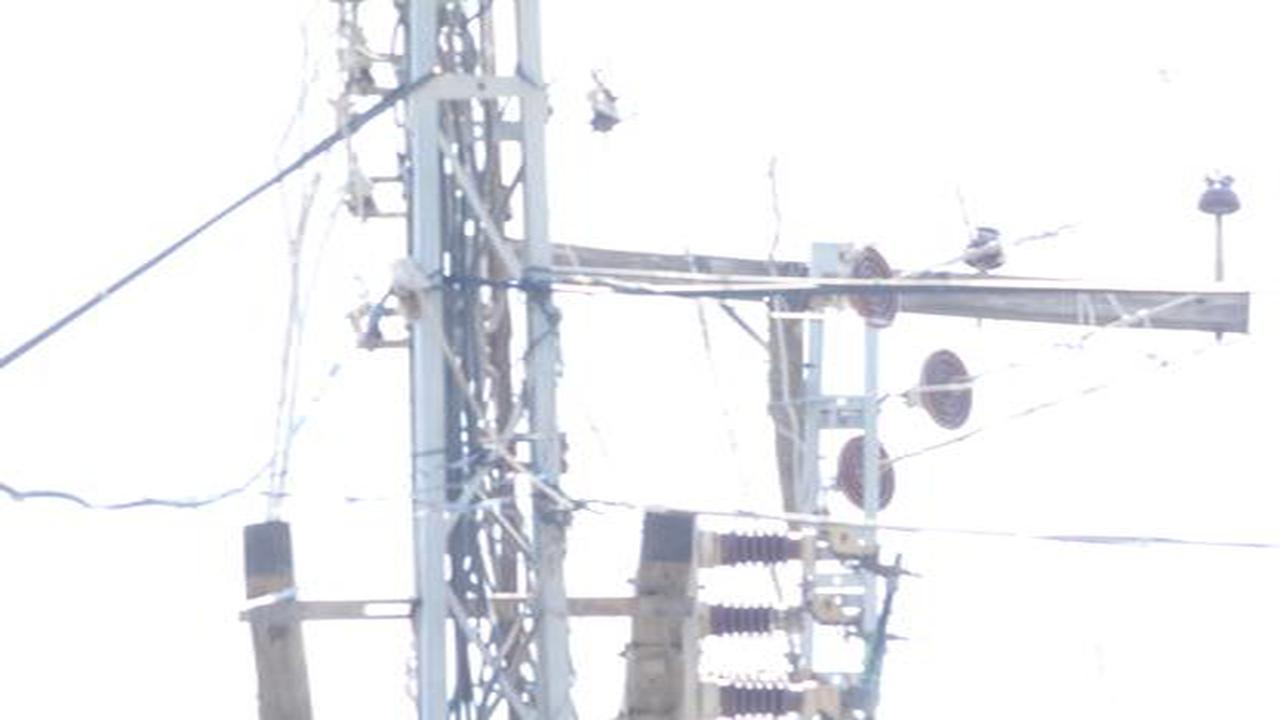insulator_disc: (832, 433, 898, 515), (911, 347, 974, 428), (848, 240, 901, 330)
insulator_pin: (1193, 169, 1246, 219), (958, 222, 1010, 269)
